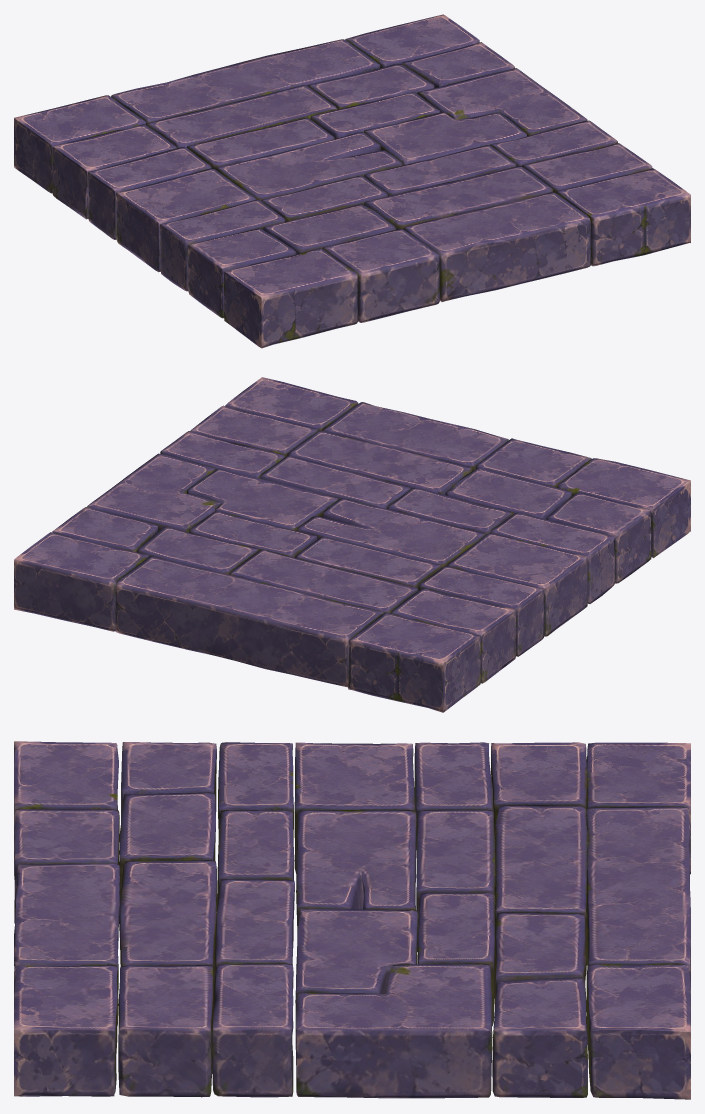
File: stone-deck.glb
The picture shows the model from 3 angles, top to bottom: view 1: azimuth 30°, elevation 25°; view 2: azimuth 150°, elevation 25°; view 3: azimuth 270°, elevation 25°; orthographic projection. The views are drawn at different scales.
Bounding box in the file's own units: 1 × 0.1191 × 1.
1 material, 1 textured.
